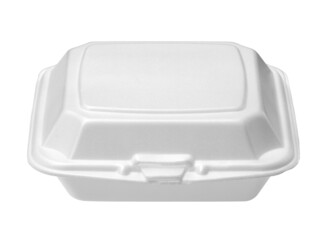styrofoam: (27, 40, 301, 205)
